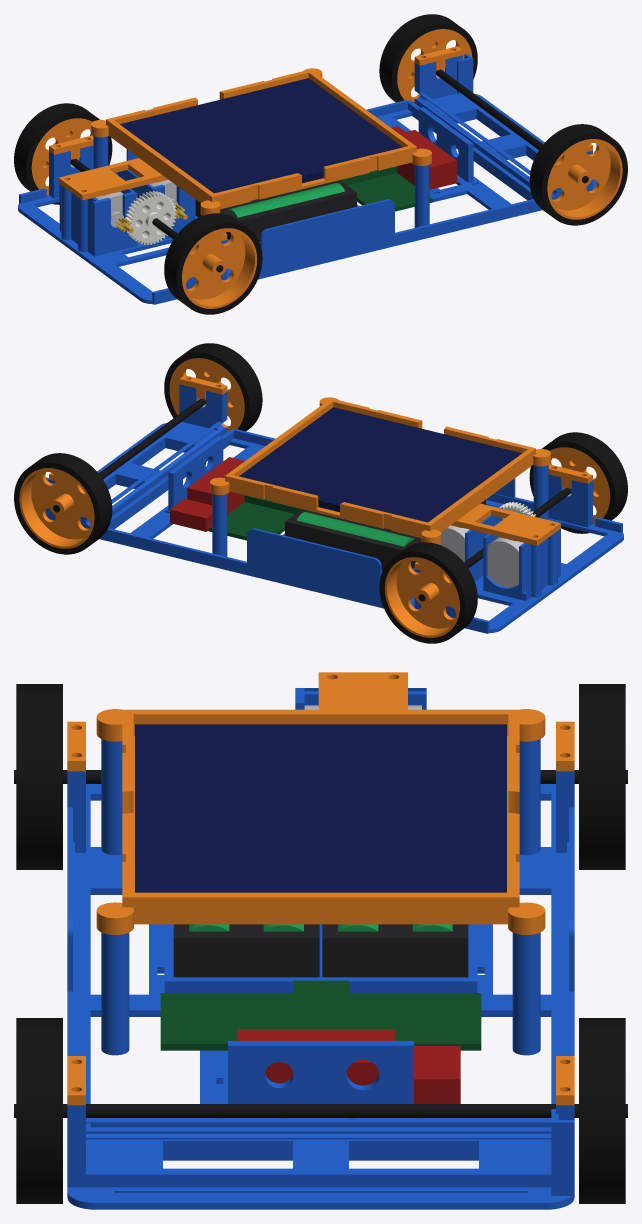
The model's file is car.glb.
3 views of the same model, one above another, from view 1: azimuth 30°, elevation 25°; view 2: azimuth 150°, elevation 25°; view 3: azimuth 270°, elevation 25° (orthographic). The views are drawn at different scales.
Parts seen in each view (by area): view 1: chassis, panel, panel_frame, front_carrier, rim_frontR, rim_rearR, tyre_rearR, tyre_frontR, battery_holders, tyre_frontL, motor_clamp, tyre_rearL (+10 smaller); view 2: chassis, panel, panel_frame, front_carrier, rim_frontL, rim_rearL, tyre_rearL, tyre_frontL, battery_holders, tyre_frontR, tyre_rearR, motor_clamp (+11 smaller); view 3: chassis, panel, front_carrier, panel_frame, esp32s3, battery_holders, tyre_rearL, tyre_rearR, tyre_frontL, tyre_frontR, axle_front, power (+6 smaller).
Boxes of the visible parts, box(x1,y1,x2,y2) form: chassis: box(18, 94, 596, 304); panel: box(120, 78, 402, 193); panel_frame: box(91, 68, 431, 215); front_carrier: box(414, 54, 592, 199); rim_frontR: box(547, 139, 622, 219); rim_rearR: box(182, 228, 257, 308); tyre_rearR: box(164, 213, 262, 314); tyre_frontR: box(529, 124, 627, 225); battery_holders: box(195, 180, 356, 241); tyre_frontL: box(379, 14, 477, 102); motor_clamp: box(58, 158, 168, 200); tyre_rearL: box(14, 103, 112, 204); chassis: box(97, 423, 623, 633); panel: box(239, 407, 521, 522); panel_frame: box(210, 397, 550, 544); front_carrier: box(45, 384, 227, 528); rim_frontL: box(19, 468, 94, 548); rim_rearL: box(384, 557, 459, 637); tyre_rearL: box(379, 542, 477, 643); tyre_frontL: box(14, 453, 112, 554); battery_holders: box(285, 499, 485, 570); tyre_frontR: box(164, 343, 262, 431); tyre_rearR: box(529, 432, 627, 533); motor_clamp: box(451, 503, 560, 545); chassis: box(67, 688, 574, 1209); panel: box(135, 724, 506, 892); front_carrier: box(67, 1105, 574, 1195); panel_frame: box(96, 709, 545, 934); esp32s3: box(160, 980, 481, 1050); battery_holders: box(173, 924, 468, 977); tyre_rearL: box(579, 684, 625, 869); tyre_rearR: box(16, 684, 62, 869); tyre_frontL: box(579, 1018, 625, 1203); tyre_frontR: box(16, 1018, 62, 1203); axle_front: box(14, 1104, 627, 1117); power: box(237, 1029, 460, 1103).
Bounding box in the file's own units: 217 × 40.4 × 132.
